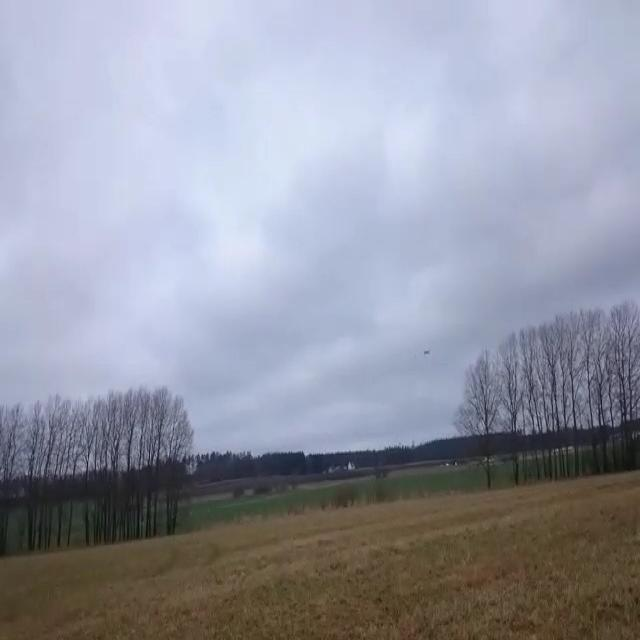drone: (424, 349, 431, 356)
